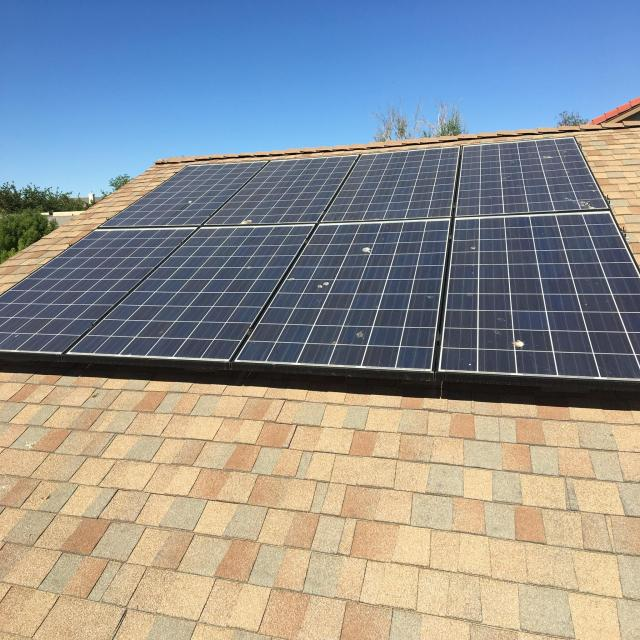dust-solar-panel: (0, 139, 640, 389)
